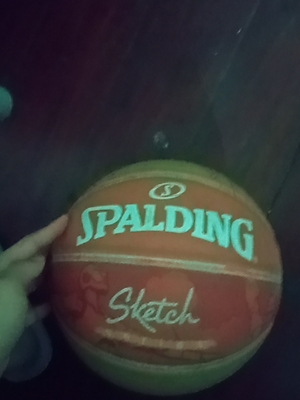ball: (47, 158, 284, 395)
